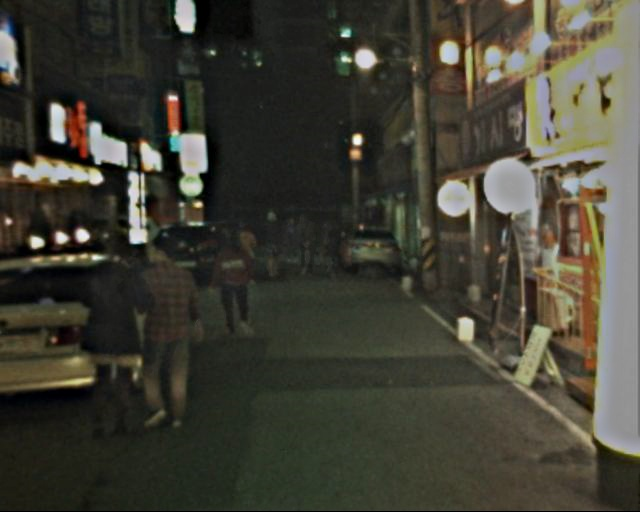person: (133, 229, 207, 440), (74, 230, 141, 446), (214, 222, 260, 343), (257, 204, 288, 283), (230, 216, 263, 290), (292, 211, 316, 281), (317, 217, 341, 281)
